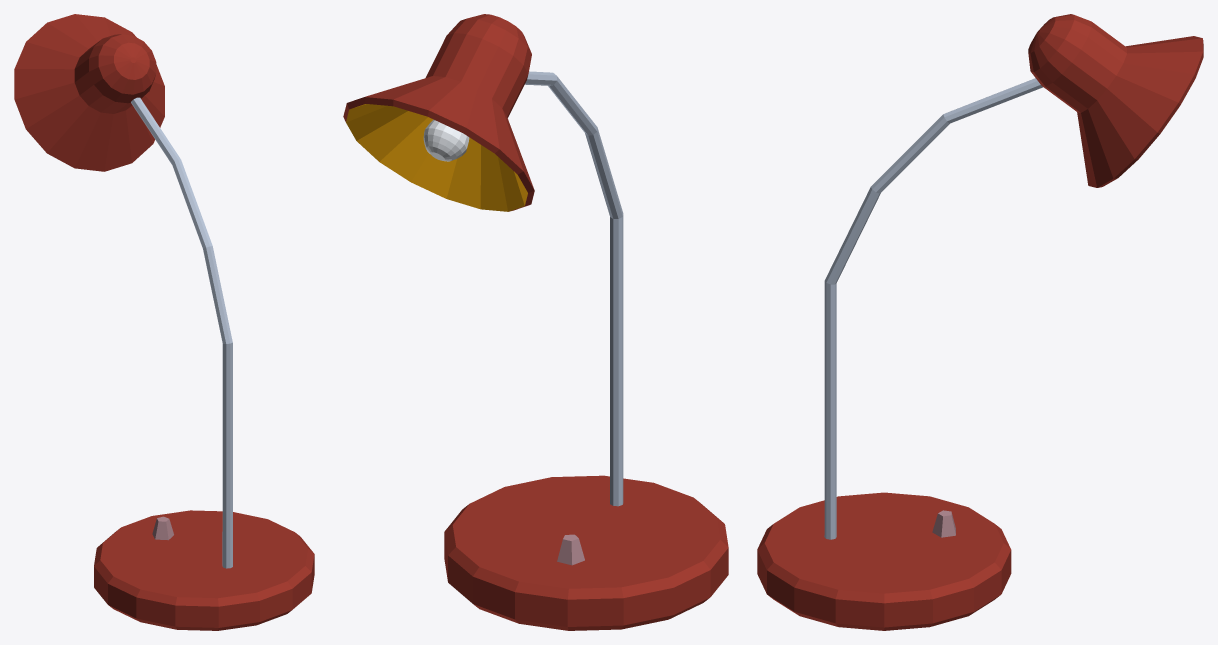
Rendered from Lamp.fbx.
The picture shows the model from 3 angles, left to right: view 1: azimuth 30°, elevation 25°; view 2: azimuth 150°, elevation 25°; view 3: azimuth 270°, elevation 25°; orthographic projection. The views are drawn at different scales.
Visible parts, largest first — view 1: Circle.025; view 2: Circle.025; view 3: Circle.025.
Part boxes in pixels (x1,y1,x2,y2): Circle.025: (14, 14, 314, 630); Circle.025: (343, 14, 728, 630); Circle.025: (757, 14, 1203, 630).
Bounding box in the file's own units: 0.5801 × 1.02 × 1.41.
